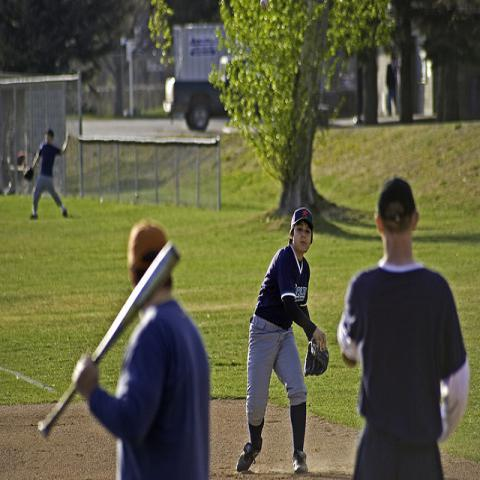truck: (161, 23, 230, 133)
